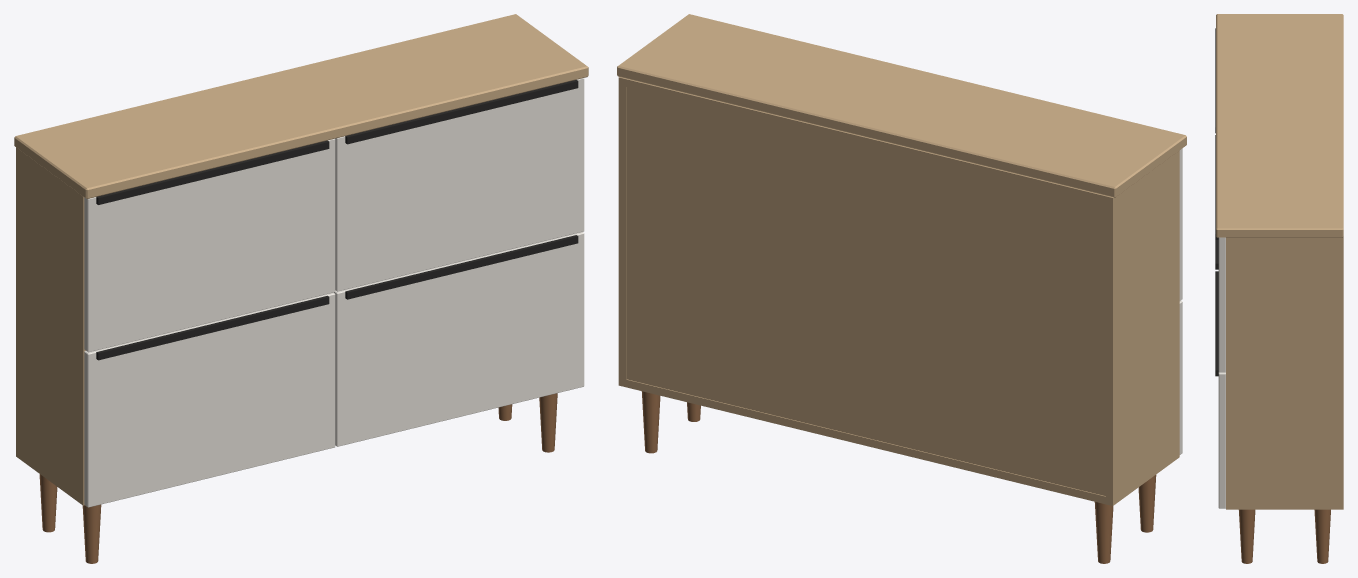
File: 28_szafka_buty_120.glb
3 views of the same model, side by side, from view 1: azimuth 30°, elevation 25°; view 2: azimuth 150°, elevation 25°; view 3: azimuth 270°, elevation 25° (orthographic). The views are drawn at different scales.
Parts seen in each view (by area): view 1: Wierzch, Front_klapa_2, Front_klapa_4, Front_klapa_1, Front_klapa_3, Korpus, Uchwyty, Nogi; view 2: Korpus, Wierzch, Nogi; view 3: Korpus, Wierzch, Nogi, Front_klapa_4, Front_klapa_3, Uchwyty.
Part boxes in pixels (<box>): Wierzch: <box>14,14,588,198</box>; Front_klapa_2: <box>84,292,335,507</box>; Front_klapa_4: <box>334,232,584,446</box>; Front_klapa_1: <box>84,138,335,352</box>; Front_klapa_3: <box>335,78,584,291</box>; Korpus: <box>16,147,85,505</box>; Uchwyty: <box>96,80,578,360</box>; Nogi: <box>39,393,557,563</box>; Korpus: <box>618,77,1179,505</box>; Wierzch: <box>617,14,1186,197</box>; Nogi: <box>641,391,1156,563</box>; Korpus: <box>1226,237,1343,509</box>; Wierzch: <box>1216,14,1343,237</box>; Nogi: <box>1239,509,1330,563</box>; Front_klapa_4: <box>1218,372,1225,508</box>; Front_klapa_3: <box>1218,237,1225,372</box>; Uchwyty: <box>1215,28,1218,376</box>.
Size of the model in its own units: 1.21 by 0.9 by 0.306.
